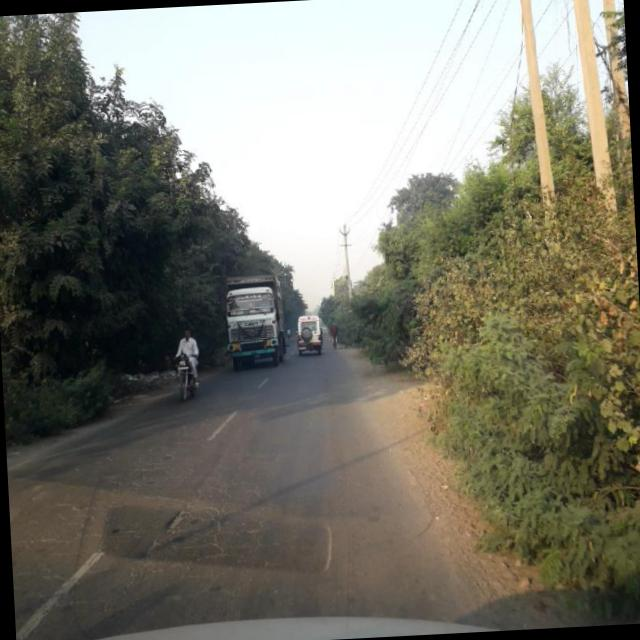crack: (7, 438, 265, 598)
